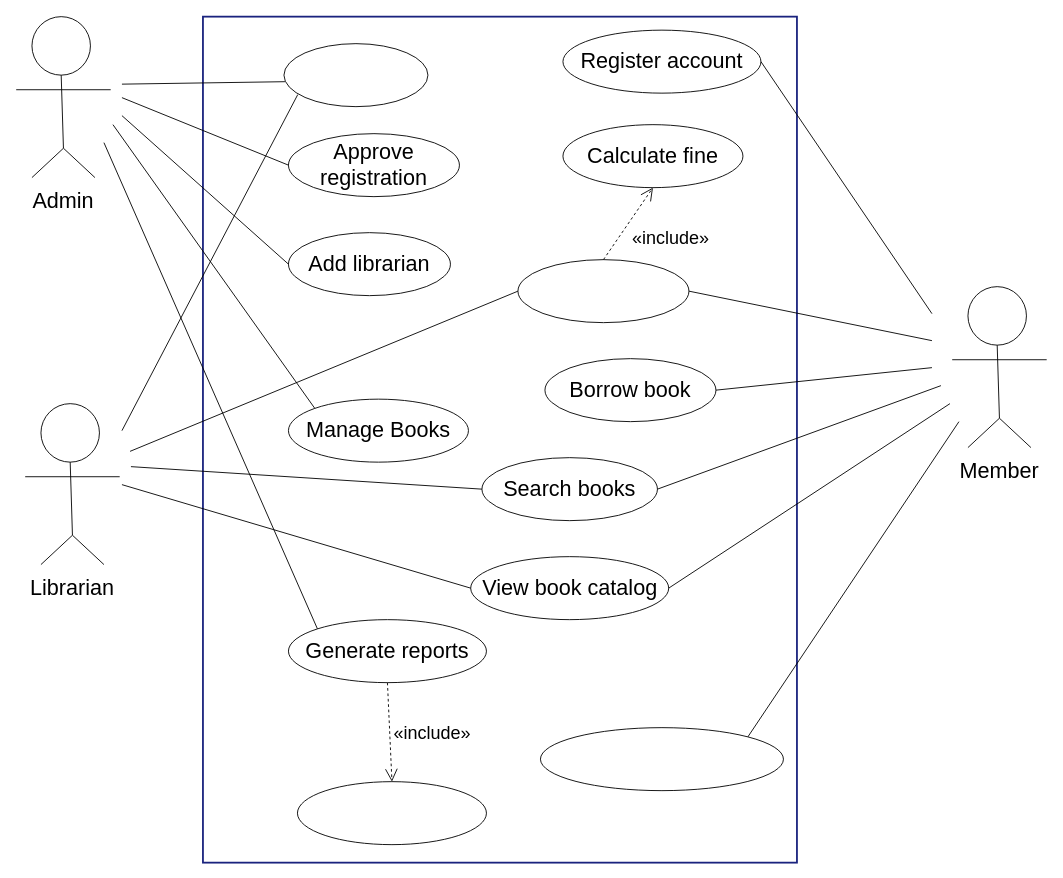
This 1063x878 diagram has some shape labels left out. Each missing label, with the centre of its shape:
"Export reports" goes at point 391,813.
"Login" goes at point 355,75.
"Return book" goes at point 603,291.
"View borrowing history" goes at point 661,759.
